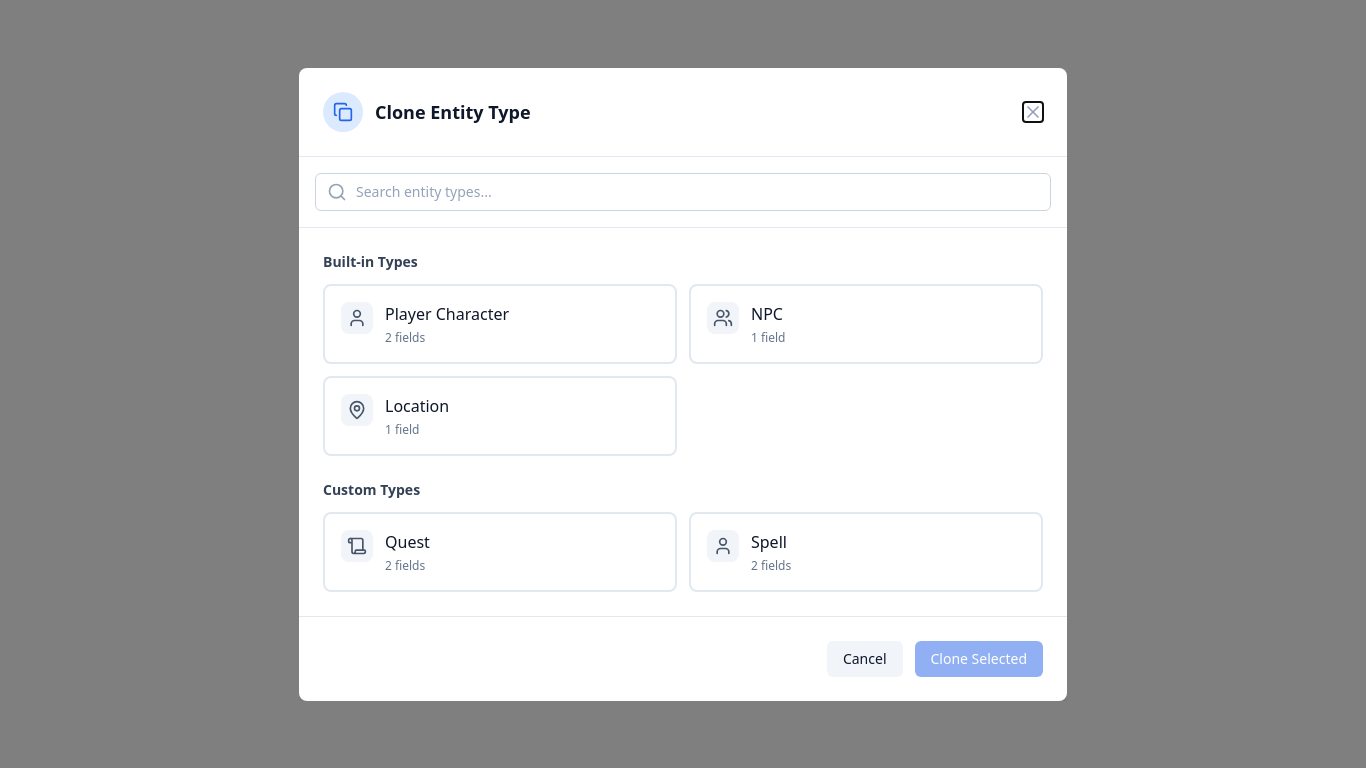
Test: EntityTypeClonePicker - Search/Filter (Issue #210) › should filter types based on search query
Type "character" into the field at [683, 192], box [315,172,1051,210]
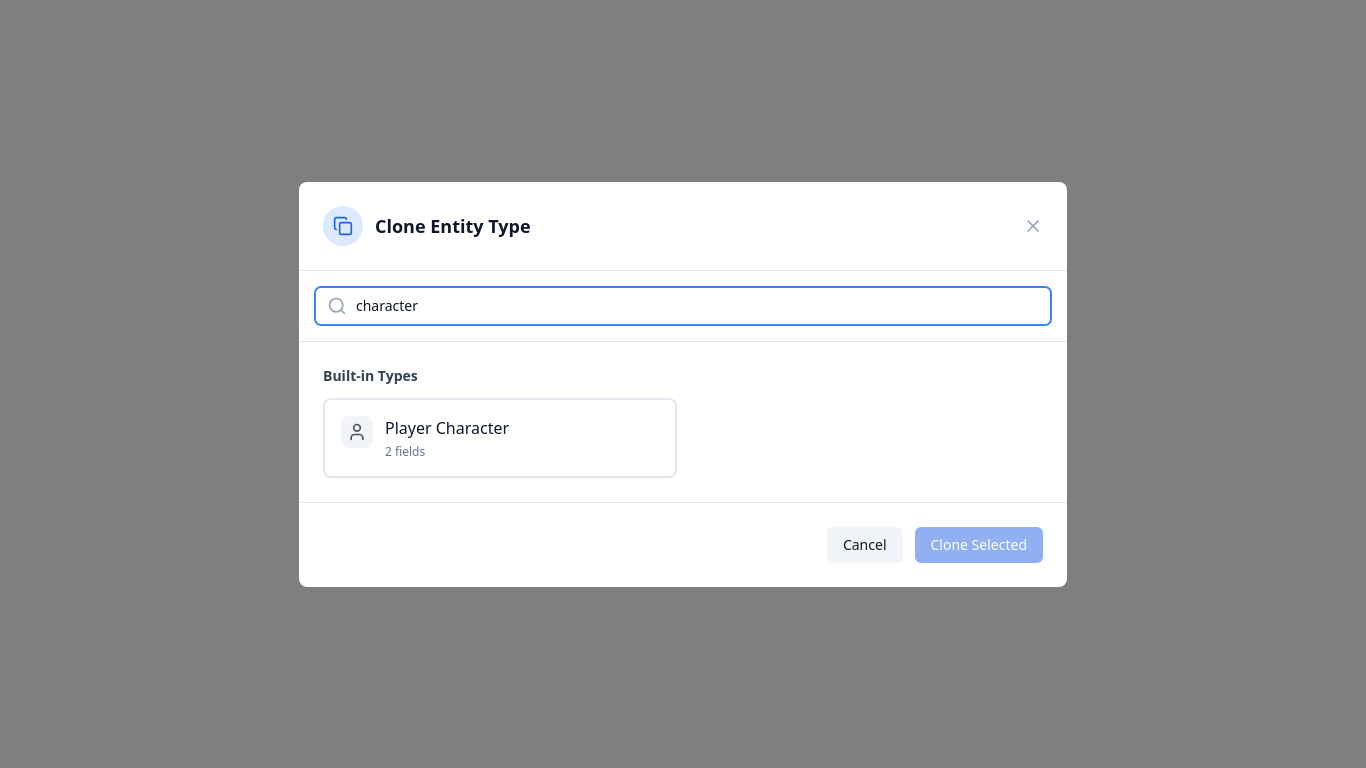
Expected: the heading "Player Character" is shown, [385,416,509,438]
Expected: the button "Location" is gone
Expected: the button "Quest" is gone
